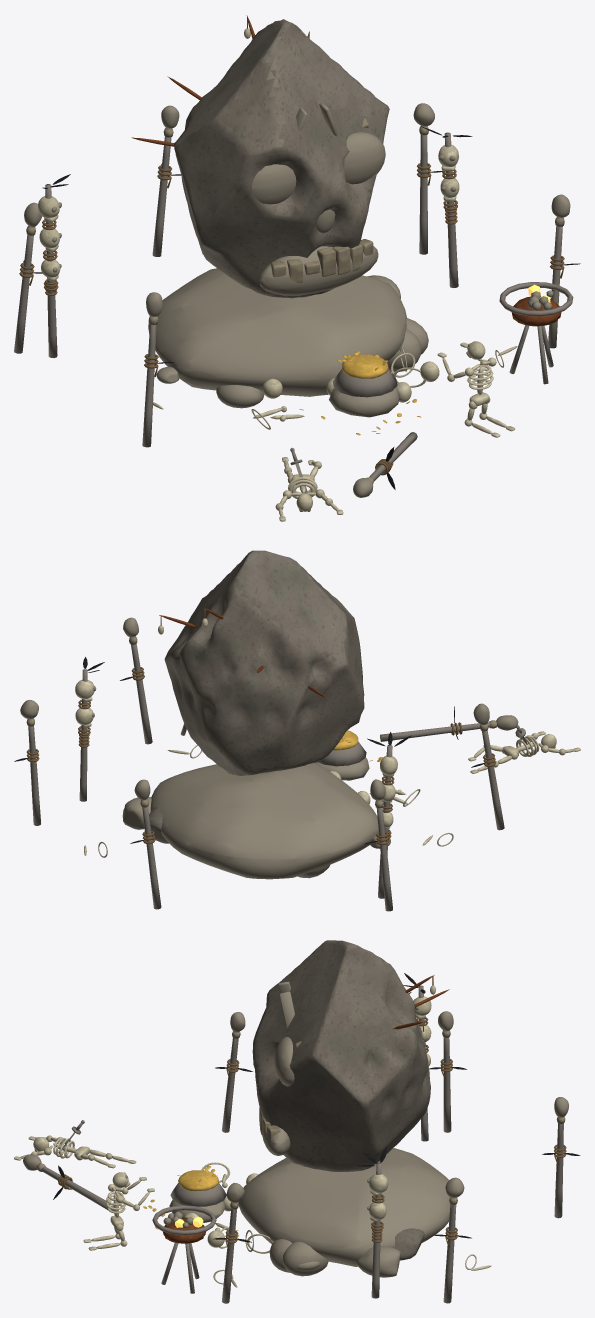
File: skull_totem.glb
The picture shows the model from 3 angles, top to bottom: view 1: azimuth 30°, elevation 25°; view 2: azimuth 150°, elevation 25°; view 3: azimuth 270°, elevation 25°; orthographic projection. The views are drawn at different scales.
Visible parts, largest first — view 1: skull_totem; view 2: skull_totem; view 3: skull_totem.
Boxes of the visible parts, x1,y1,x2,y2 form: skull_totem: (14,15,580,521); skull_totem: (14,550,580,911); skull_totem: (14,940,580,1303).
Bounding box in the file's own units: 6.09 × 4.71 × 8.02.
10 materials, 9 textured.
